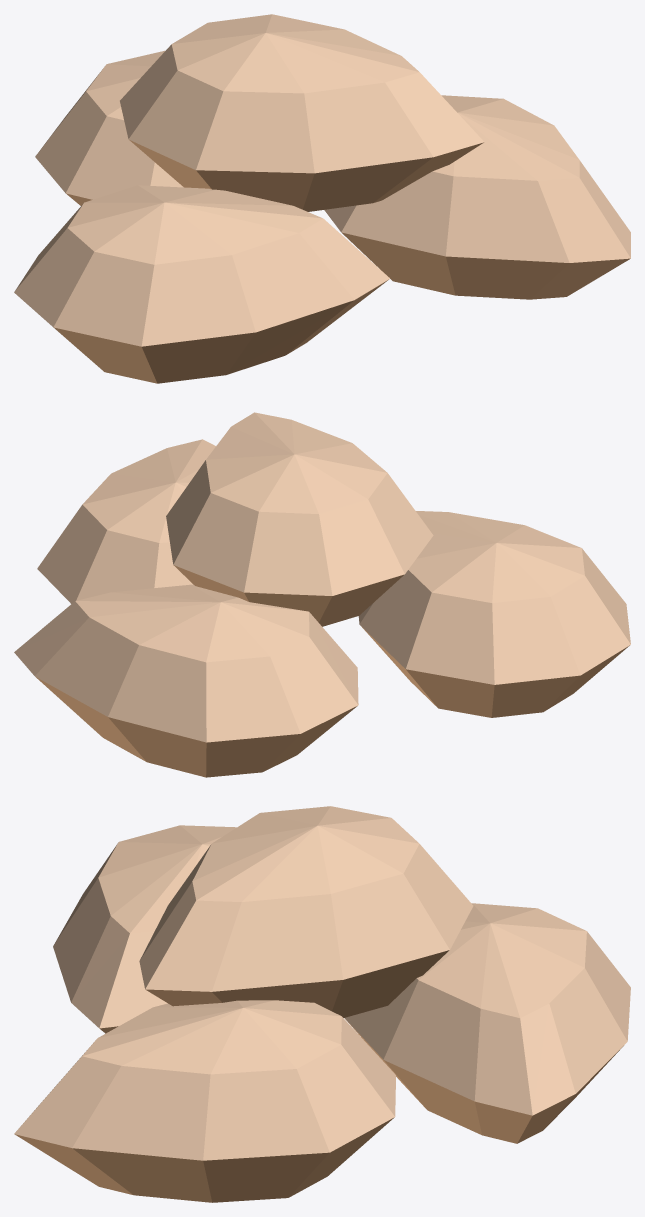
File: item_produce_seed_c.obj
3 renders of one model, top to bottom at view 1: azimuth 30°, elevation 25°; view 2: azimuth 150°, elevation 25°; view 3: azimuth 270°, elevation 25°, orthographic. The views are drawn at different scales.
Bounding box in the file's own units: 0.6139 × 0.252 × 0.5496.
